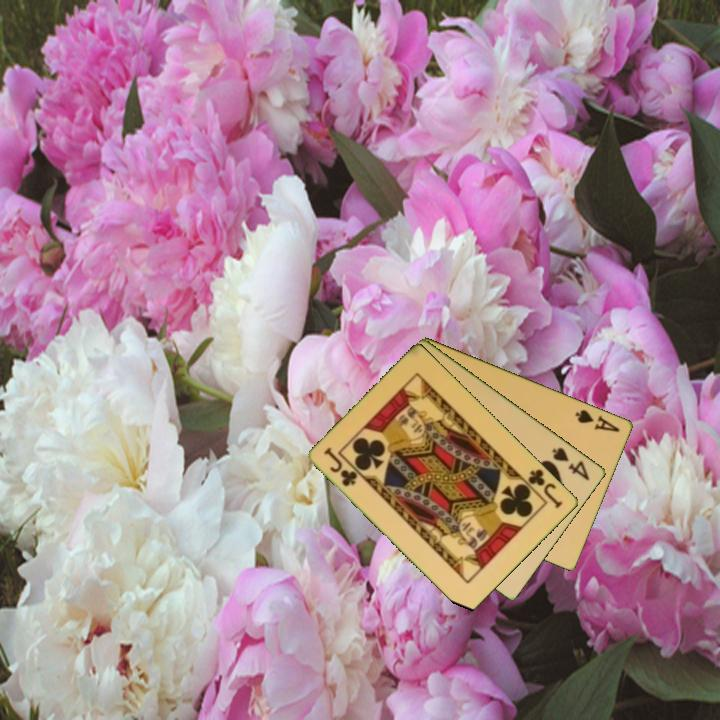4s: (549, 444, 593, 483)
As: (572, 406, 623, 435)
Jc: (519, 465, 566, 511), (321, 444, 361, 489)
